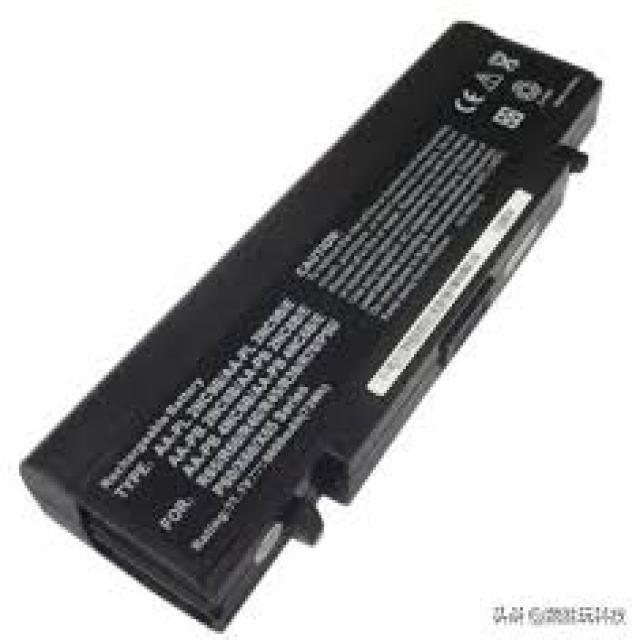Battery: (20, 0, 597, 623)
